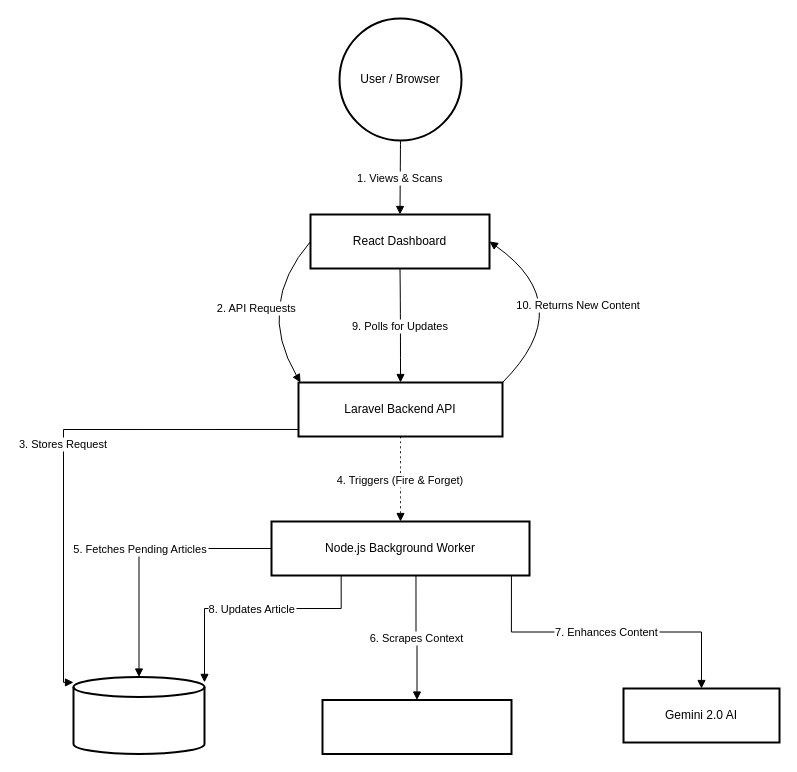
This 797x772 diagram has some shape labels left out. The centre of each missing label's shape, as x and y in pixels:
Google Search API: [416,726]
MySQL Database: [138,715]
